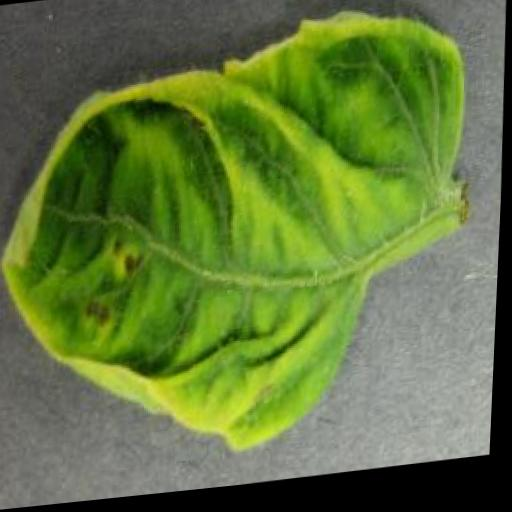Yellow Leaf Curl Virus: (0, 2, 479, 485)
